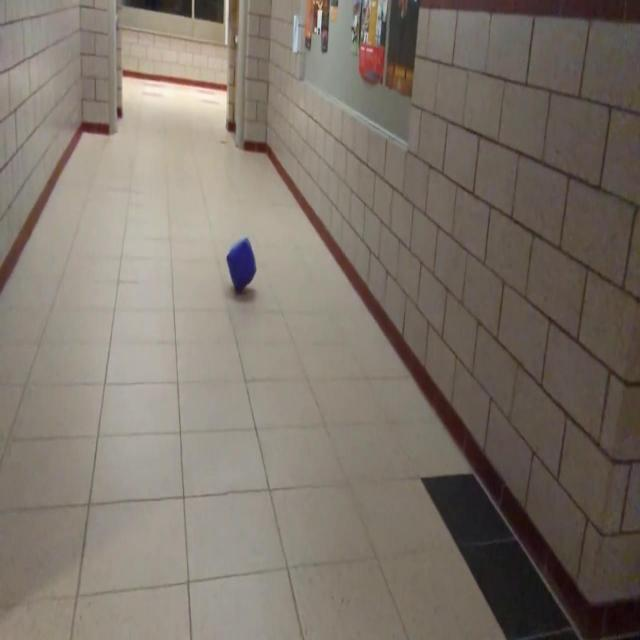frc_cube: (227, 238, 257, 292)
